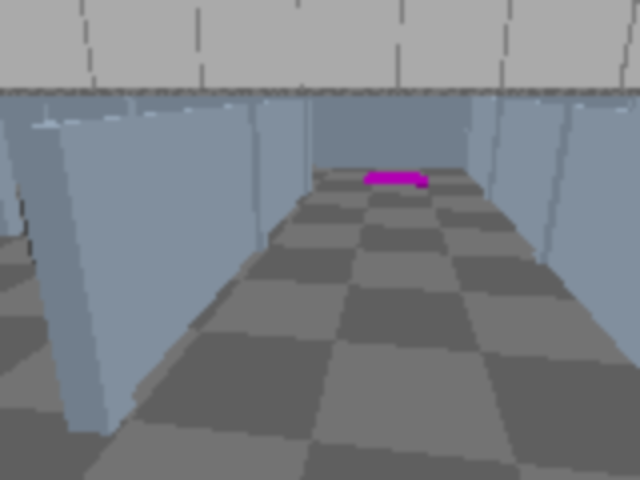goal_zone: (363, 173, 429, 186)
